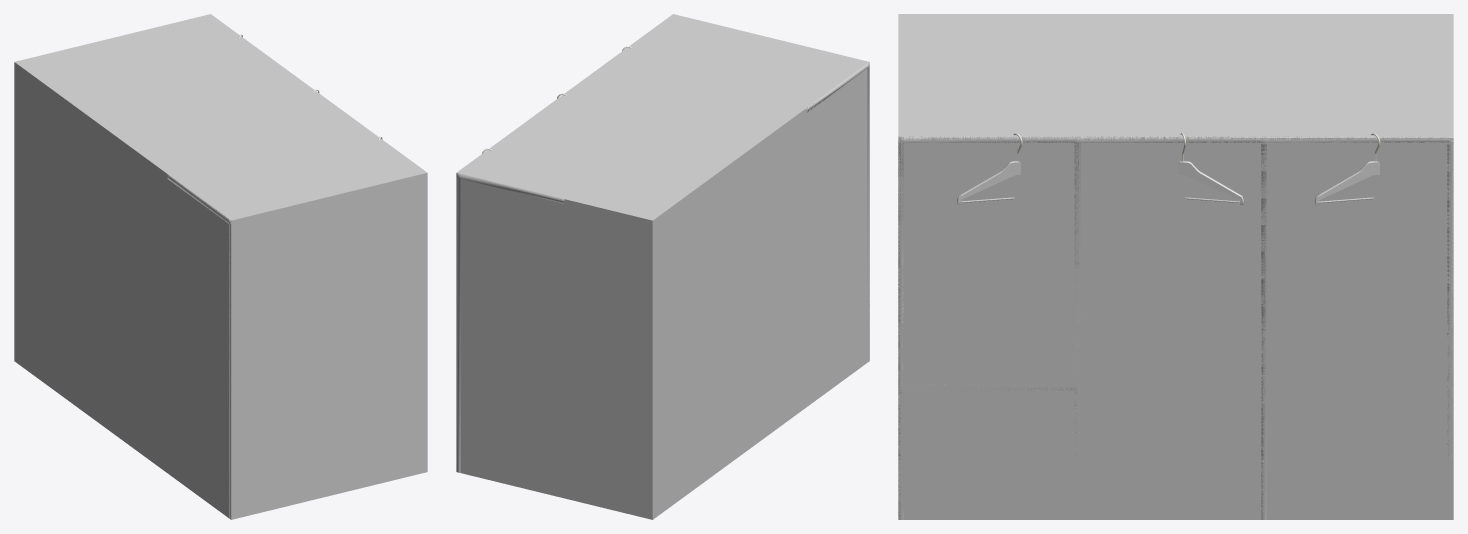
The model's file is Aur_CenterRack.gltf.
The picture shows the model from 3 angles, left to right: view 1: azimuth 30°, elevation 25°; view 2: azimuth 150°, elevation 25°; view 3: azimuth 270°, elevation 25°; orthographic projection. The views are drawn at different scales.
Parts seen in each view (by area): view 1: Aur_CenterRack.001_bcol, Aur_CenterRack.001; view 2: Aur_CenterRack.001_bcol, Aur_CenterRack.001; view 3: Aur_CenterRack.001_bcol, Aur_CenterRack.001, clothes_hanger_01.014, clothes_hanger_01.013, clothes_hanger_01.015.
Part boxes in pixels (left/top/right/bottom): Aur_CenterRack.001_bcol: left=14, top=14, right=427, bottom=519; Aur_CenterRack.001: left=167, top=174, right=231, bottom=519; Aur_CenterRack.001_bcol: left=456, top=14, right=869, bottom=519; Aur_CenterRack.001: left=456, top=62, right=869, bottom=472; Aur_CenterRack.001_bcol: left=898, top=14, right=1453, bottom=519; Aur_CenterRack.001: left=898, top=136, right=1453, bottom=519; clothes_hanger_01.014: left=1314, top=133, right=1380, bottom=205; clothes_hanger_01.013: left=1178, top=133, right=1243, bottom=204; clothes_hanger_01.015: left=957, top=133, right=1022, bottom=204.
Size of what is drawn, in the model's own units: 1.48 by 2.08 by 2.72.
Materials: 1 (1 with a texture image).
